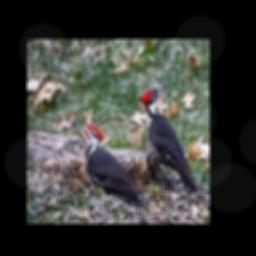Woodpecker: (140, 82, 203, 197), (71, 120, 147, 200)
